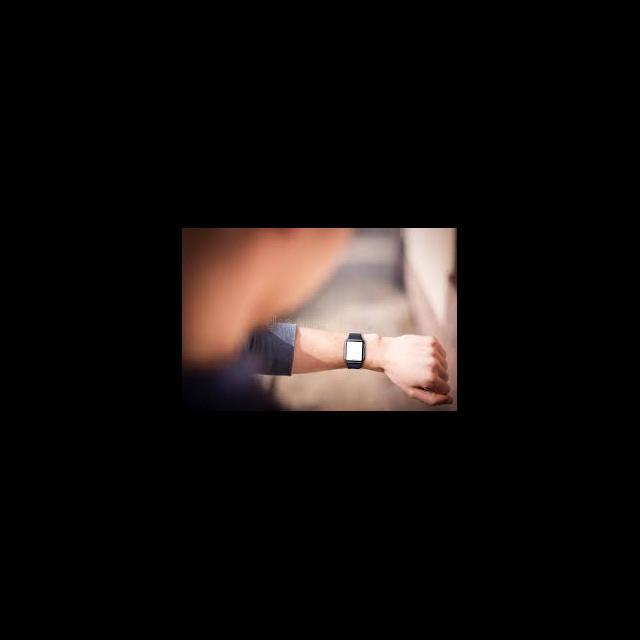watch: (337, 320, 375, 392)
